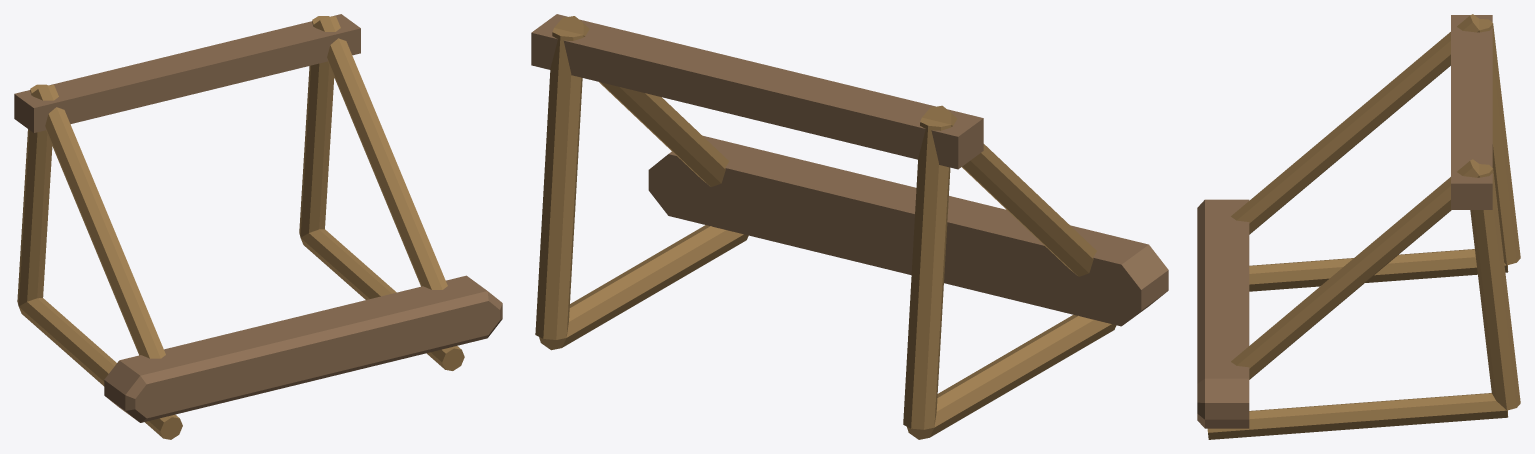
The model's file is H-07_bookstand.glb.
3 renders of one model, left to right at view 1: azimuth 30°, elevation 25°; view 2: azimuth 150°, elevation 25°; view 3: azimuth 270°, elevation 25°, orthographic. The views are drawn at different scales.
Visible parts, largest first — view 1: H-07_bookstand; view 2: H-07_bookstand; view 3: H-07_bookstand.
Part boxes in pixels (x1=…): H-07_bookstand: x1=14, y1=14, x2=502, y2=439; H-07_bookstand: x1=531, y1=14, x2=1168, y2=439; H-07_bookstand: x1=1197, y1=14, x2=1520, y2=439.
Bounding box in the file's own units: 0.3 × 0.2006 × 0.2109.
